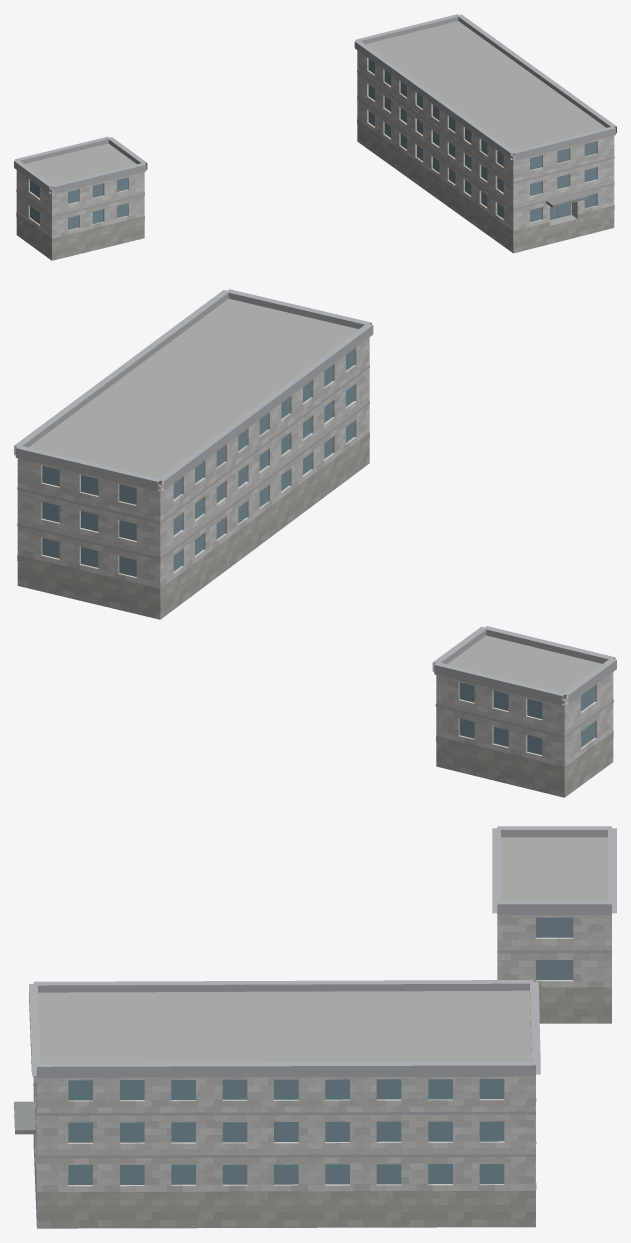
3 renders of one model, top to bottom at view 1: azimuth 30°, elevation 25°; view 2: azimuth 150°, elevation 25°; view 3: azimuth 270°, elevation 25°, orthographic. The views are drawn at different scales.
Visible parts, largest first — view 1: itBldgAnnexN1__wall, itBldgAnnexN1__roof, itBldgAnnexN1__trim, itBldgAnnexN1__base, itBldgAnnexN1__glass, itBldgAnnexN1__canopy; view 2: itBldgAnnexN1__wall, itBldgAnnexN1__roof, itBldgAnnexN1__trim, itBldgAnnexN1__base, itBldgAnnexN1__glass; view 3: itBldgAnnexN1__wall, itBldgAnnexN1__roof, itBldgAnnexN1__trim, itBldgAnnexN1__base, itBldgAnnexN1__glass, itBldgAnnexN1__canopy.
Boxes of the visible parts, box(x1,y1,x2,y2) form: itBldgAnnexN1__wall: box(16, 50, 614, 242); itBldgAnnexN1__roof: box(25, 21, 606, 225); itBldgAnnexN1__trim: box(14, 14, 616, 217); itBldgAnnexN1__base: box(16, 119, 614, 260); itBldgAnnexN1__glass: box(30, 59, 596, 229); itBldgAnnexN1__canopy: box(546, 192, 588, 207); itBldgAnnexN1__wall: box(17, 337, 613, 772); itBldgAnnexN1__roof: box(28, 298, 601, 700); itBldgAnnexN1__trim: box(14, 289, 616, 737); itBldgAnnexN1__base: box(17, 432, 613, 797); itBldgAnnexN1__glass: box(42, 349, 594, 754); itBldgAnnexN1__wall: box(33, 915, 611, 1196); itBldgAnnexN1__roof: box(35, 837, 607, 1185); itBldgAnnexN1__trim: box(29, 826, 616, 1158); itBldgAnnexN1__base: box(33, 987, 611, 1228); itBldgAnnexN1__glass: box(68, 917, 573, 1184); itBldgAnnexN1__canopy: box(14, 1101, 35, 1134).
Size of the model in its own units: 61.52 by 18.58 by 46.37.
8 materials, 2 textured.
